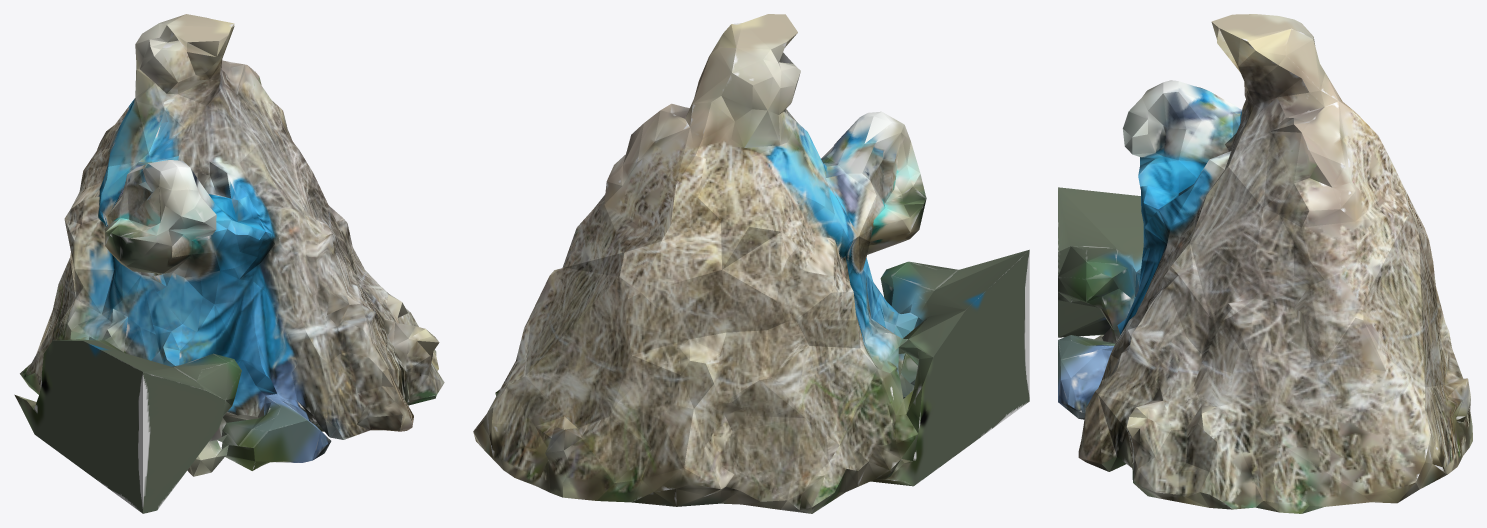
The model's file is kakashi_07b.fbx.
3 renders of one model, left to right at view 1: azimuth 30°, elevation 25°; view 2: azimuth 150°, elevation 25°; view 3: azimuth 270°, elevation 25°, orthographic. The views are drawn at different scales.
Visible parts, largest first — view 1: kakashi_07:Mesh; view 2: kakashi_07:Mesh; view 3: kakashi_07:Mesh.
Part boxes in pixels (x1=…): kakashi_07:Mesh: x1=14, y1=14, x2=444, y2=513; kakashi_07:Mesh: x1=473, y1=14, x2=1029, y2=513; kakashi_07:Mesh: x1=1058, y1=14, x2=1472, y2=513.
Size of the model in its own units: 31.2 by 29.89 by 29.24.
Materials: 1 (1 with a texture image).
